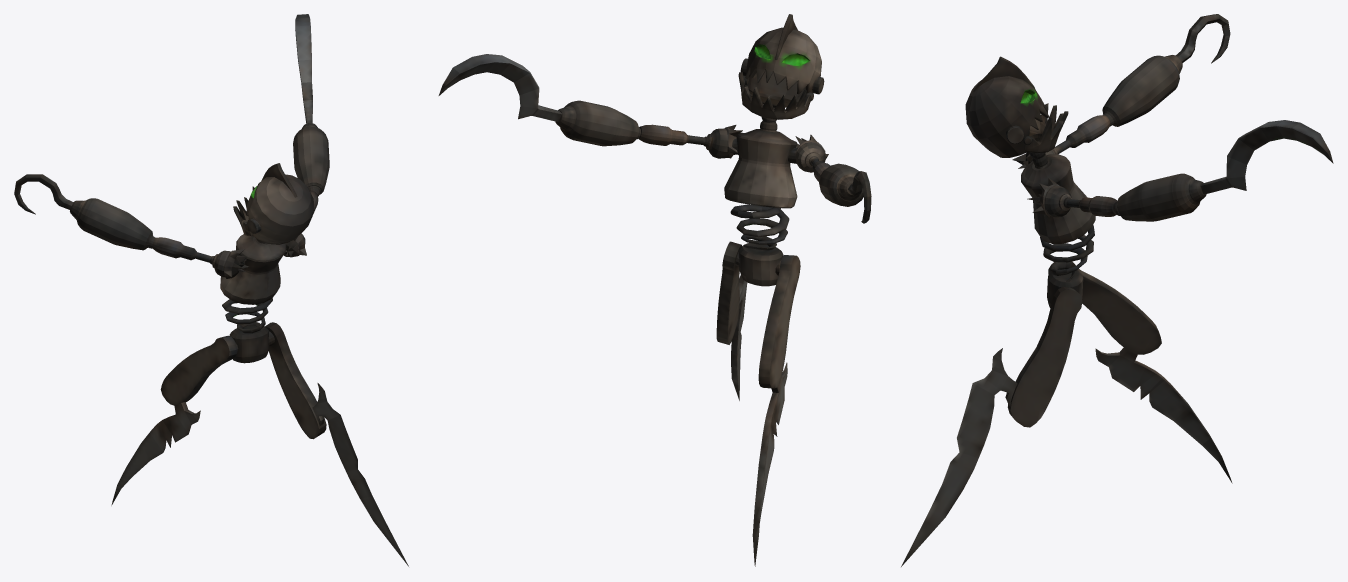
The picture shows the model from 3 angles, left to right: view 1: azimuth 30°, elevation 25°; view 2: azimuth 150°, elevation 25°; view 3: azimuth 270°, elevation 25°; orthographic projection. The views are drawn at different scales.
Parts seen in each view (by area): view 1: Assembled_Plane.008; view 2: Assembled_Plane.008; view 3: Assembled_Plane.008.
Boxes of the visible parts, left/top/right/bottom form: Assembled_Plane.008: left=14, top=14, right=408, bottom=566; Assembled_Plane.008: left=438, top=14, right=871, bottom=566; Assembled_Plane.008: left=901, top=14, right=1333, bottom=566.
Size of the model in its own units: 3.96 by 4.68 by 3.79.
